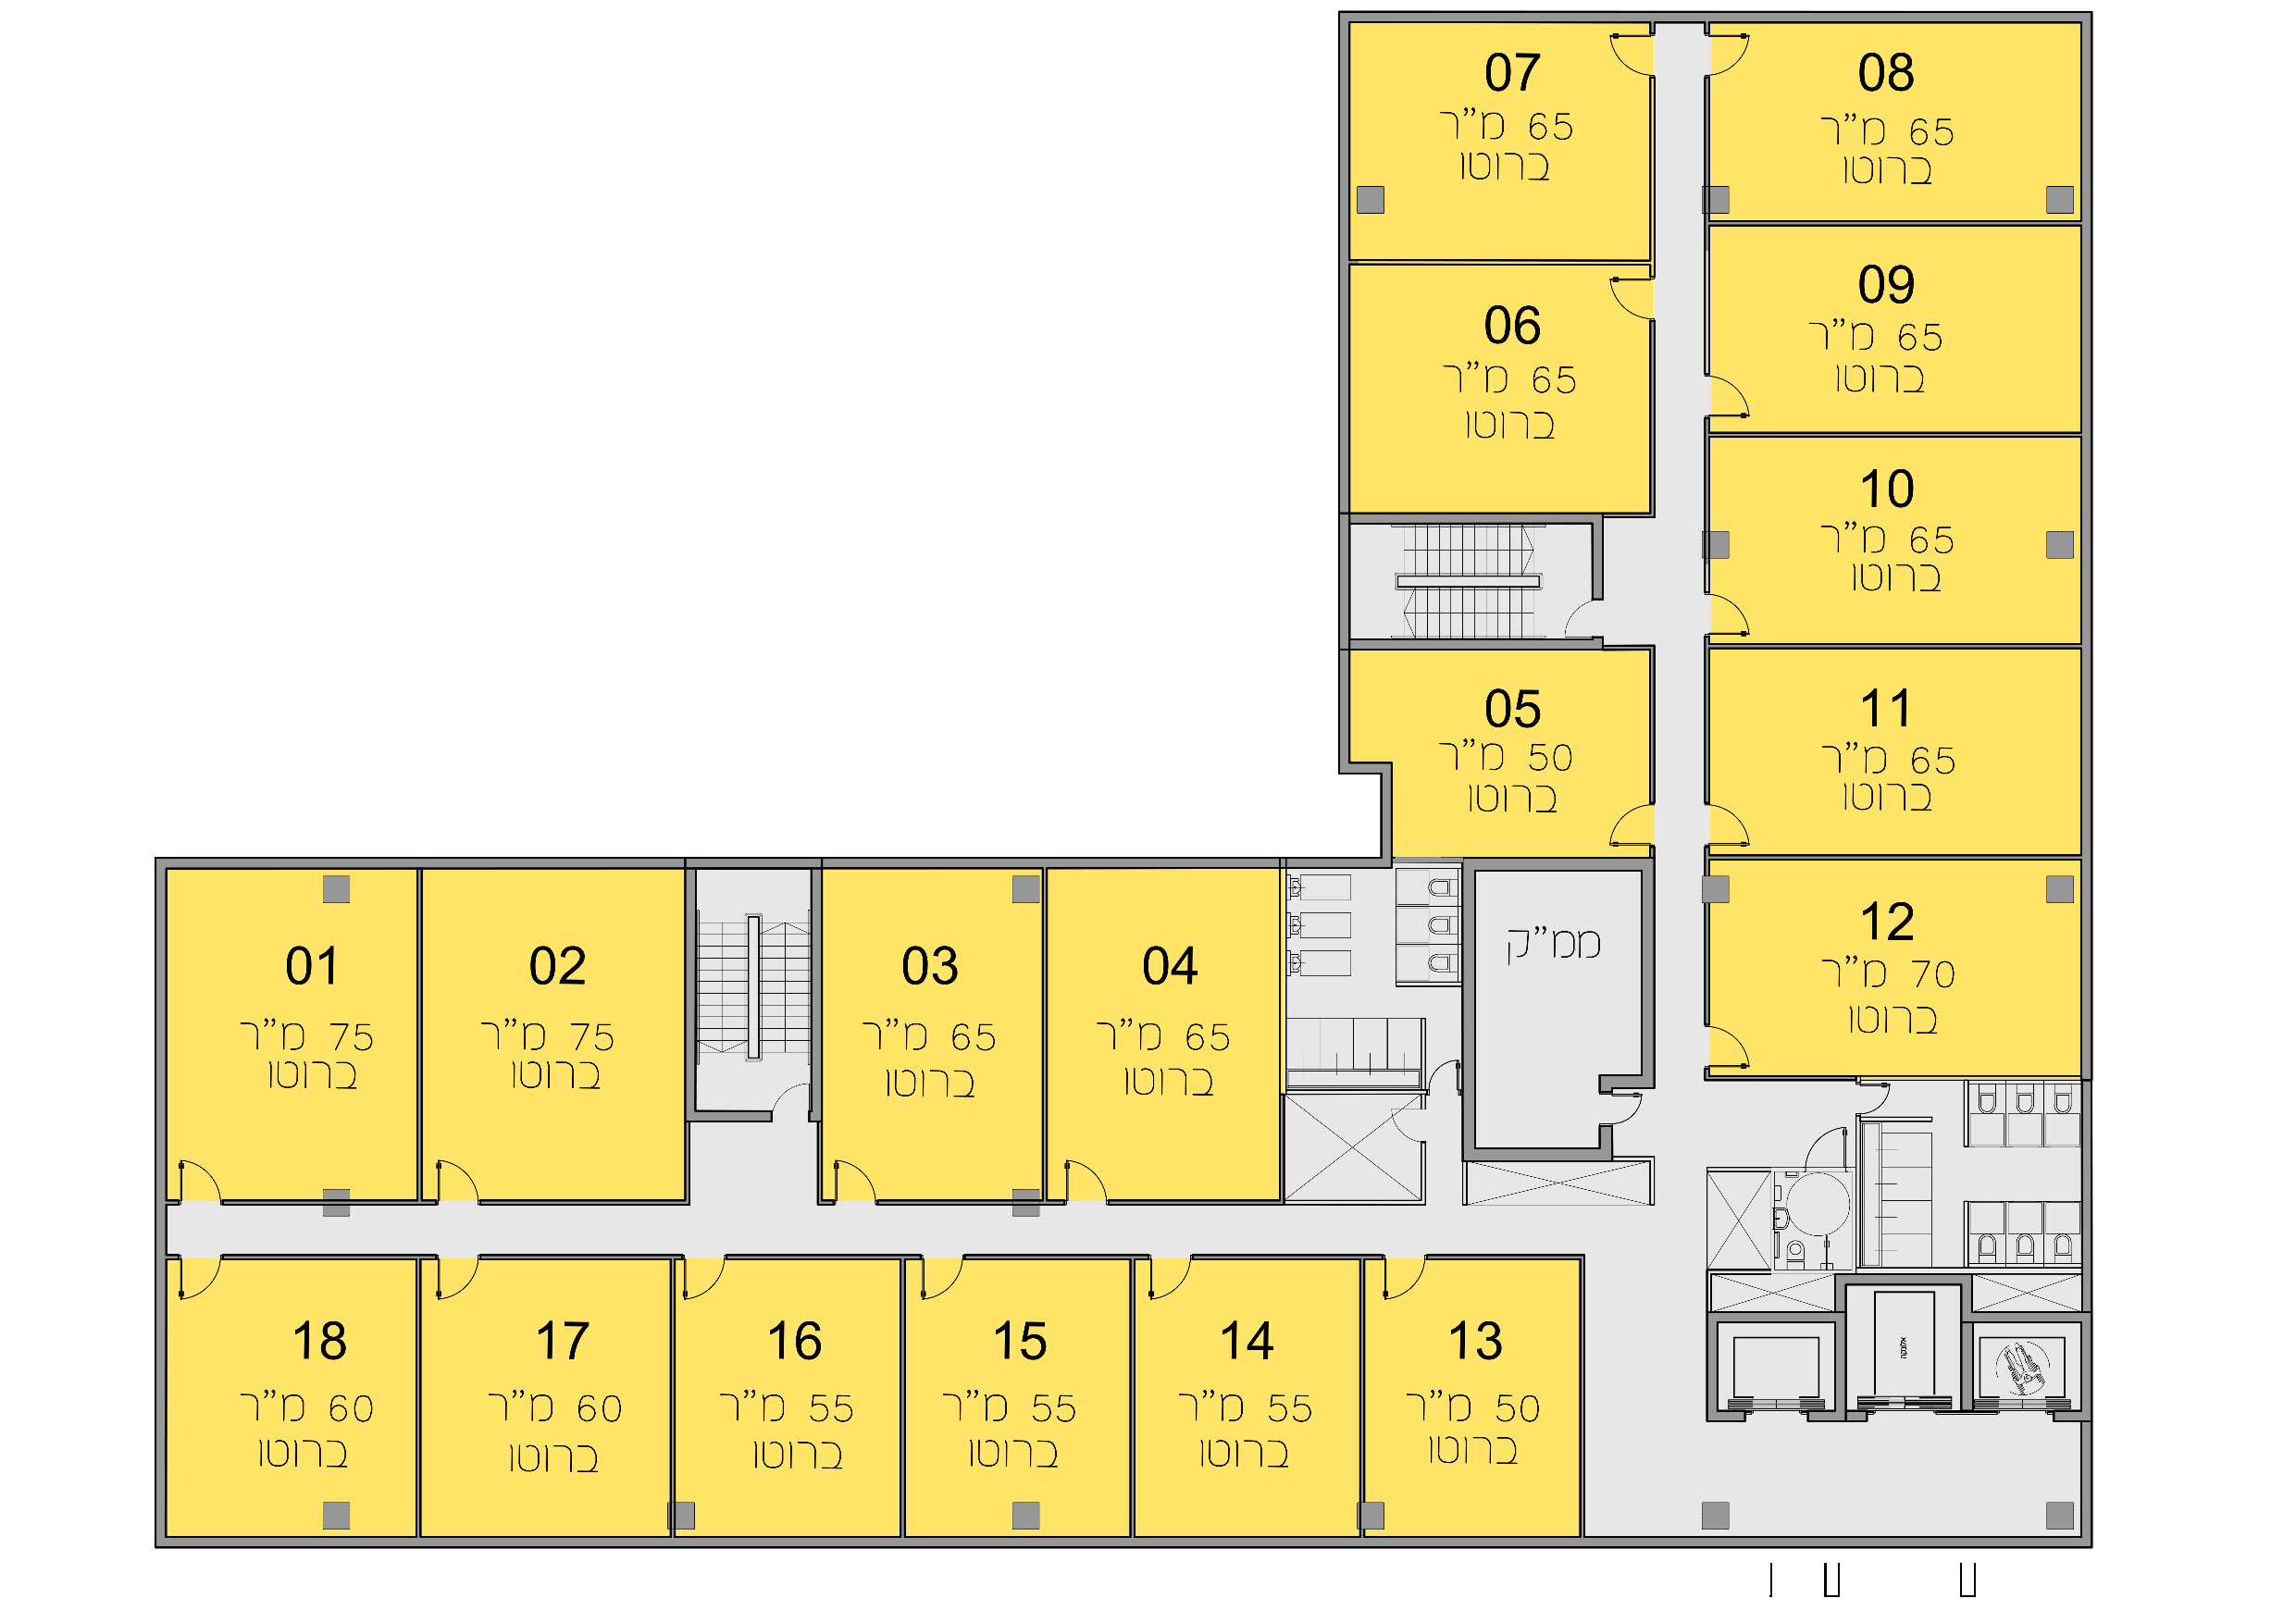door: (1370, 1266, 1439, 1333), (1595, 28, 1650, 97), (1590, 267, 1646, 332), (910, 1265, 980, 1316), (1713, 23, 1760, 93), (1716, 794, 1769, 854), (425, 1261, 487, 1312), (1715, 580, 1764, 643), (680, 1265, 740, 1316), (1718, 358, 1760, 425), (427, 1154, 488, 1200), (1142, 1265, 1205, 1307), (1056, 1152, 1114, 1196), (1790, 1121, 1852, 1161), (1720, 1024, 1767, 1073), (1604, 799, 1646, 854), (177, 1152, 230, 1194), (172, 1268, 228, 1307), (831, 1159, 885, 1196), (1616, 1093, 1648, 1128), (1862, 1082, 1897, 1114), (1430, 1057, 1460, 1084)
wall: (153, 1530, 2101, 1562), (2068, 5, 2112, 1077), (144, 848, 1395, 878), (1328, 4, 1367, 782), (1574, 1031, 1671, 1091), (156, 862, 163, 1547), (1462, 862, 1474, 1156), (1641, 857, 1653, 1086), (1351, 515, 1600, 523), (1465, 1147, 1607, 1159), (1351, 641, 1599, 648), (813, 869, 820, 1117), (687, 873, 694, 1115), (416, 884, 422, 1205), (1465, 859, 1646, 868), (669, 1256, 675, 1539), (416, 1258, 420, 1540), (968, 1252, 1144, 1258), (1592, 515, 1602, 597), (221, 1200, 429, 1203), (480, 1198, 687, 1201), (478, 1254, 685, 1258), (220, 1252, 427, 1256), (689, 1112, 769, 1121), (1599, 1075, 1655, 1087), (1595, 1128, 1614, 1163), (727, 1254, 906, 1258), (1704, 903, 1709, 1019)
